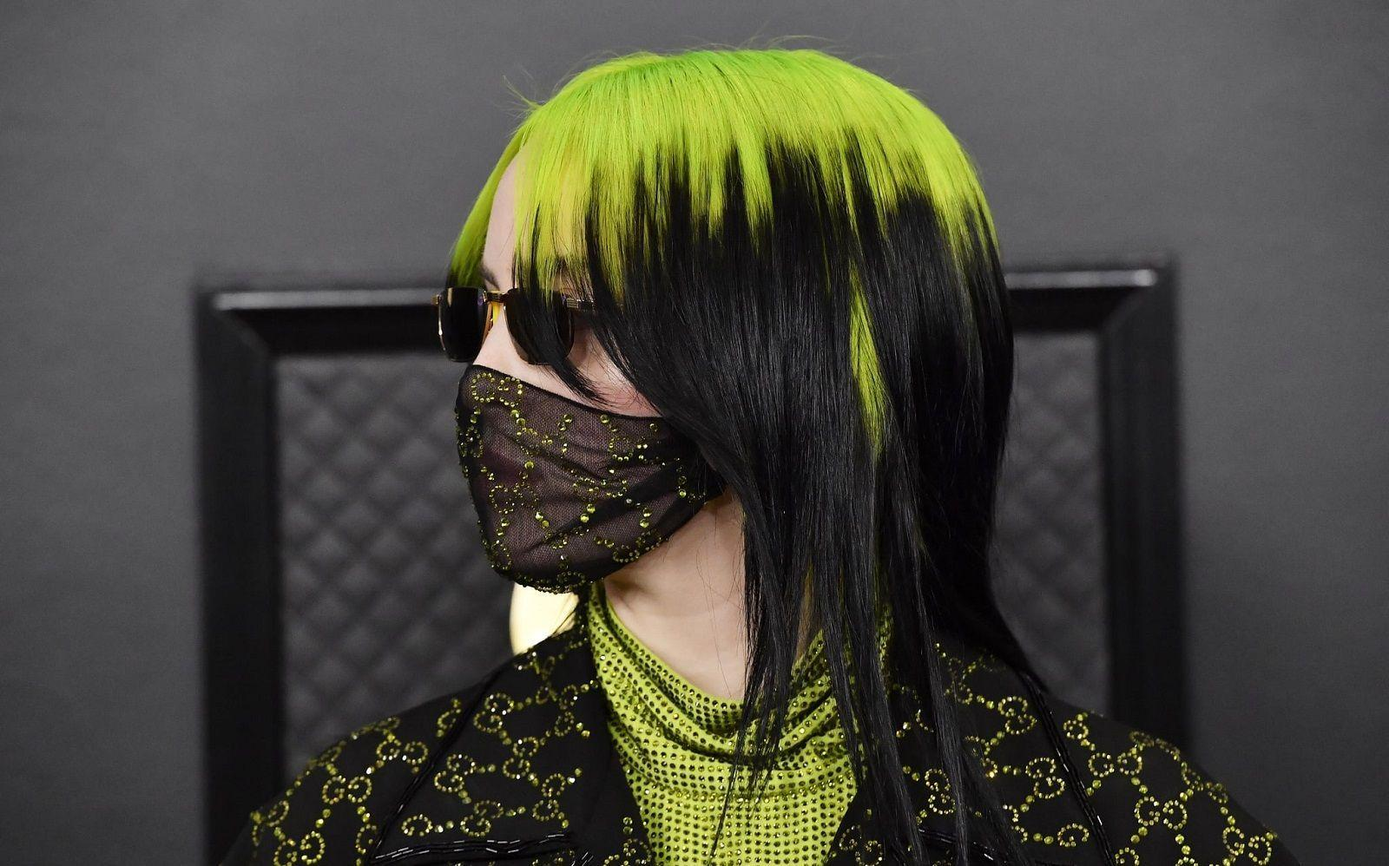Wearing Mask: (355, 2, 1169, 866)
